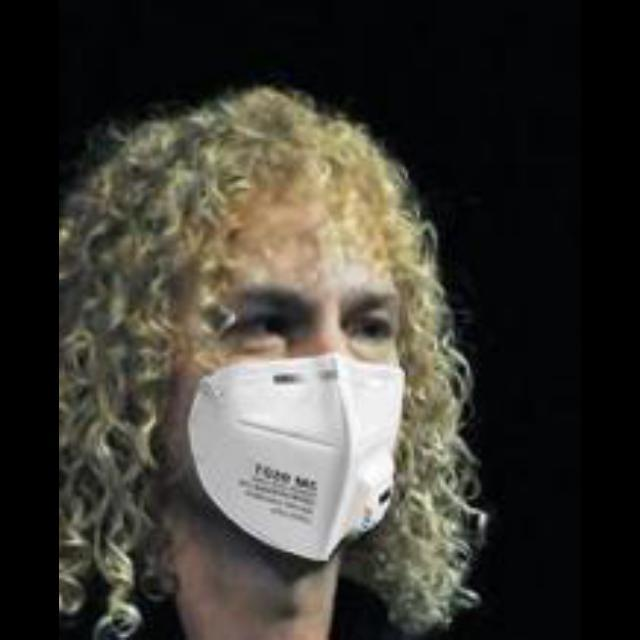suspicion: (146, 141, 450, 587)
